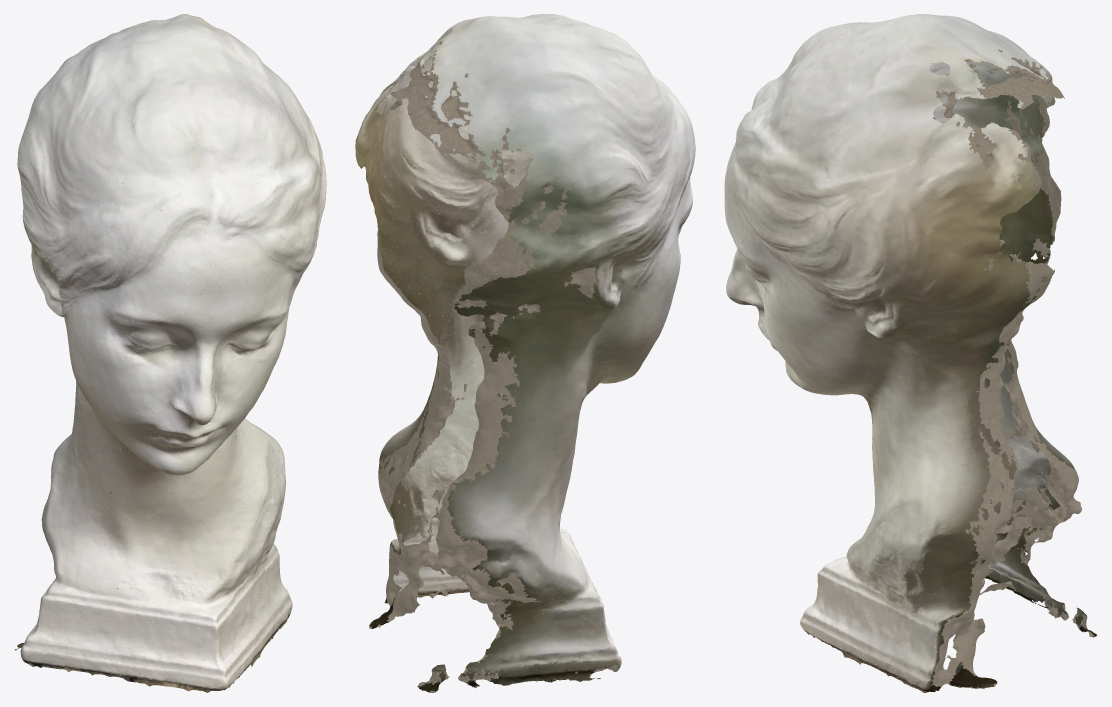
The model's file is 石膏头像_女中青年_侧面低头女子01_opt.glb.
3 renders of one model, left to right at view 1: azimuth 30°, elevation 25°; view 2: azimuth 150°, elevation 25°; view 3: azimuth 270°, elevation 25°, orthographic.
Visible parts, largest first — view 1: Object_2, Object_3, Object_4, Object_15, Object_26, Object_36, Object_38, Object_35, Object_5, Object_33, Object_8, Object_34 (+23 smaller); view 2: Object_2, Object_3, Object_4, Object_15, Object_26, Object_33, Object_35, Object_37, Object_34, Object_6, Object_7, Object_5 (+24 smaller); view 3: Object_2, Object_3, Object_4, Object_15, Object_26, Object_35, Object_37, Object_34, Object_33, Object_36, Object_5, Object_7 (+24 smaller).
Boxes of the visible parts, x1,y1,x2,y2 form: Object_2: (29, 16, 326, 692); Object_3: (17, 14, 325, 689); Object_4: (18, 14, 326, 688); Object_15: (19, 14, 326, 690); Object_26: (23, 21, 322, 690); Object_36: (23, 24, 321, 689); Object_38: (22, 33, 322, 683); Object_35: (22, 29, 326, 687); Object_5: (18, 21, 326, 686); Object_33: (18, 14, 323, 674); Object_8: (17, 44, 320, 691); Object_34: (22, 15, 326, 685); Object_2: (355, 14, 695, 688); Object_3: (369, 20, 695, 692); Object_4: (356, 17, 695, 655); Object_15: (366, 16, 691, 681); Object_26: (365, 15, 693, 690); Object_33: (368, 19, 694, 680); Object_35: (372, 17, 695, 681); Object_37: (379, 16, 694, 681); Object_34: (386, 14, 691, 669); Object_6: (369, 15, 693, 691); Object_7: (367, 36, 694, 681); Object_5: (382, 20, 693, 656); Object_2: (724, 14, 1084, 690); Object_3: (724, 14, 1096, 692); Object_4: (724, 15, 1060, 692); Object_15: (730, 22, 1064, 683); Object_26: (724, 21, 1087, 692); Object_35: (732, 27, 1082, 687); Object_37: (729, 36, 1060, 674); Object_34: (733, 26, 1059, 685); Object_33: (726, 26, 1082, 688); Object_36: (727, 30, 1088, 671); Object_5: (725, 20, 1067, 668); Object_7: (728, 17, 1046, 684).
Bounding box in the file's own units: 0.1361 × 0.2973 × 0.1641.
Materials: 36 (36 with a texture image).
